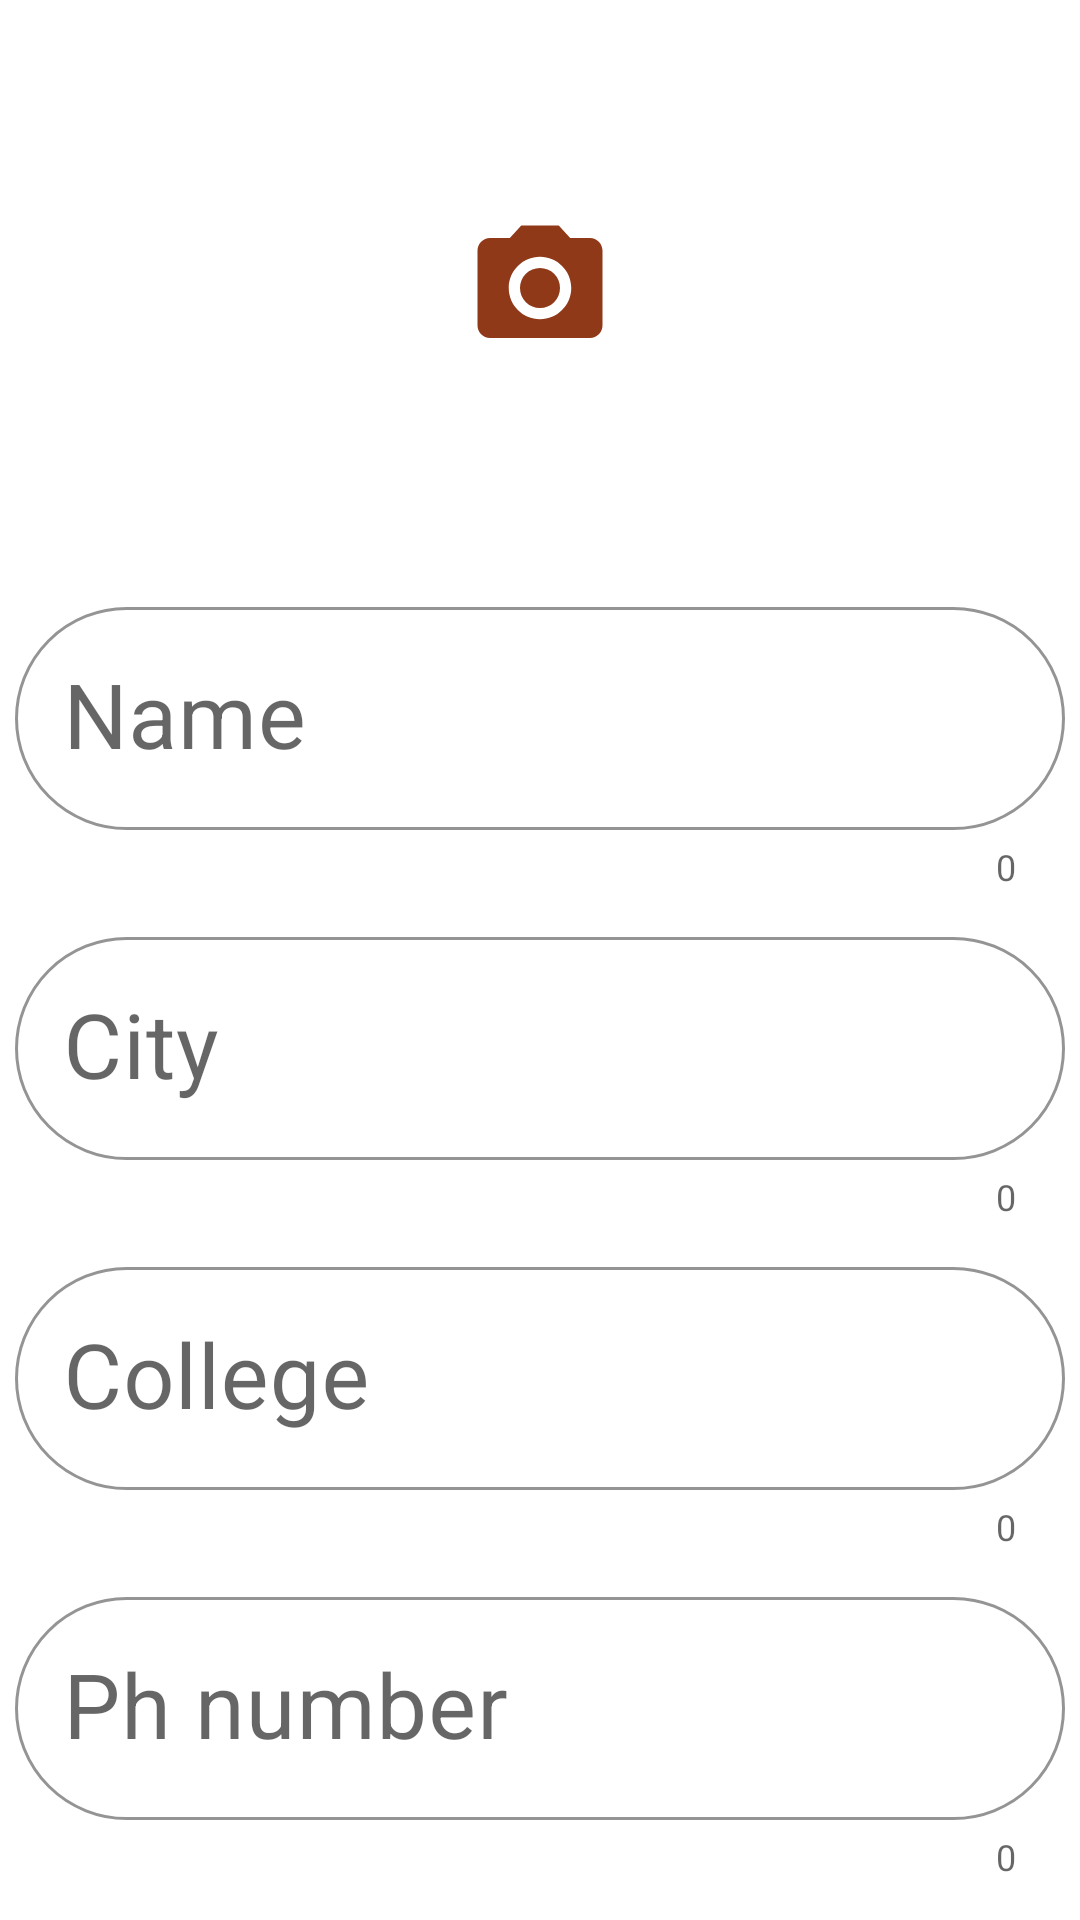

Screen size 1080 x 1920. Icon name, then its center in pixels as point (x, y):
camera: point (540, 281)
